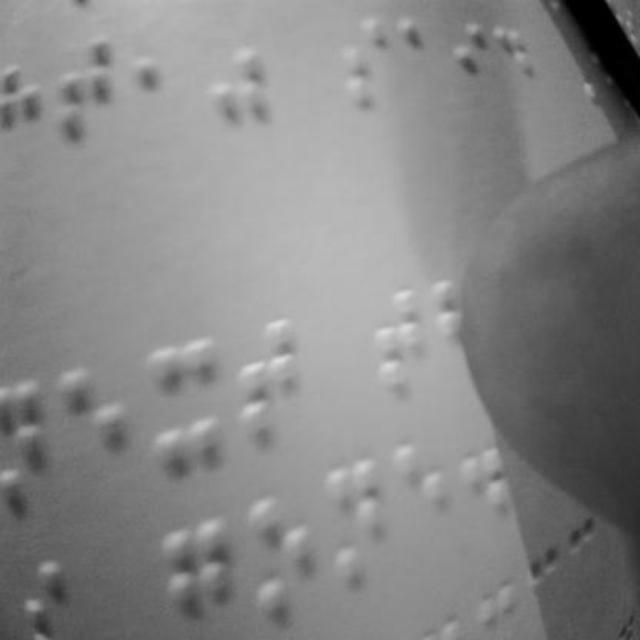braiile: (156, 323, 228, 473), (59, 352, 129, 486), (235, 316, 302, 444), (250, 495, 318, 621), (58, 27, 122, 156), (324, 457, 384, 587), (132, 12, 196, 130), (392, 434, 452, 558), (372, 283, 432, 403), (337, 9, 393, 113), (396, 11, 448, 109)
